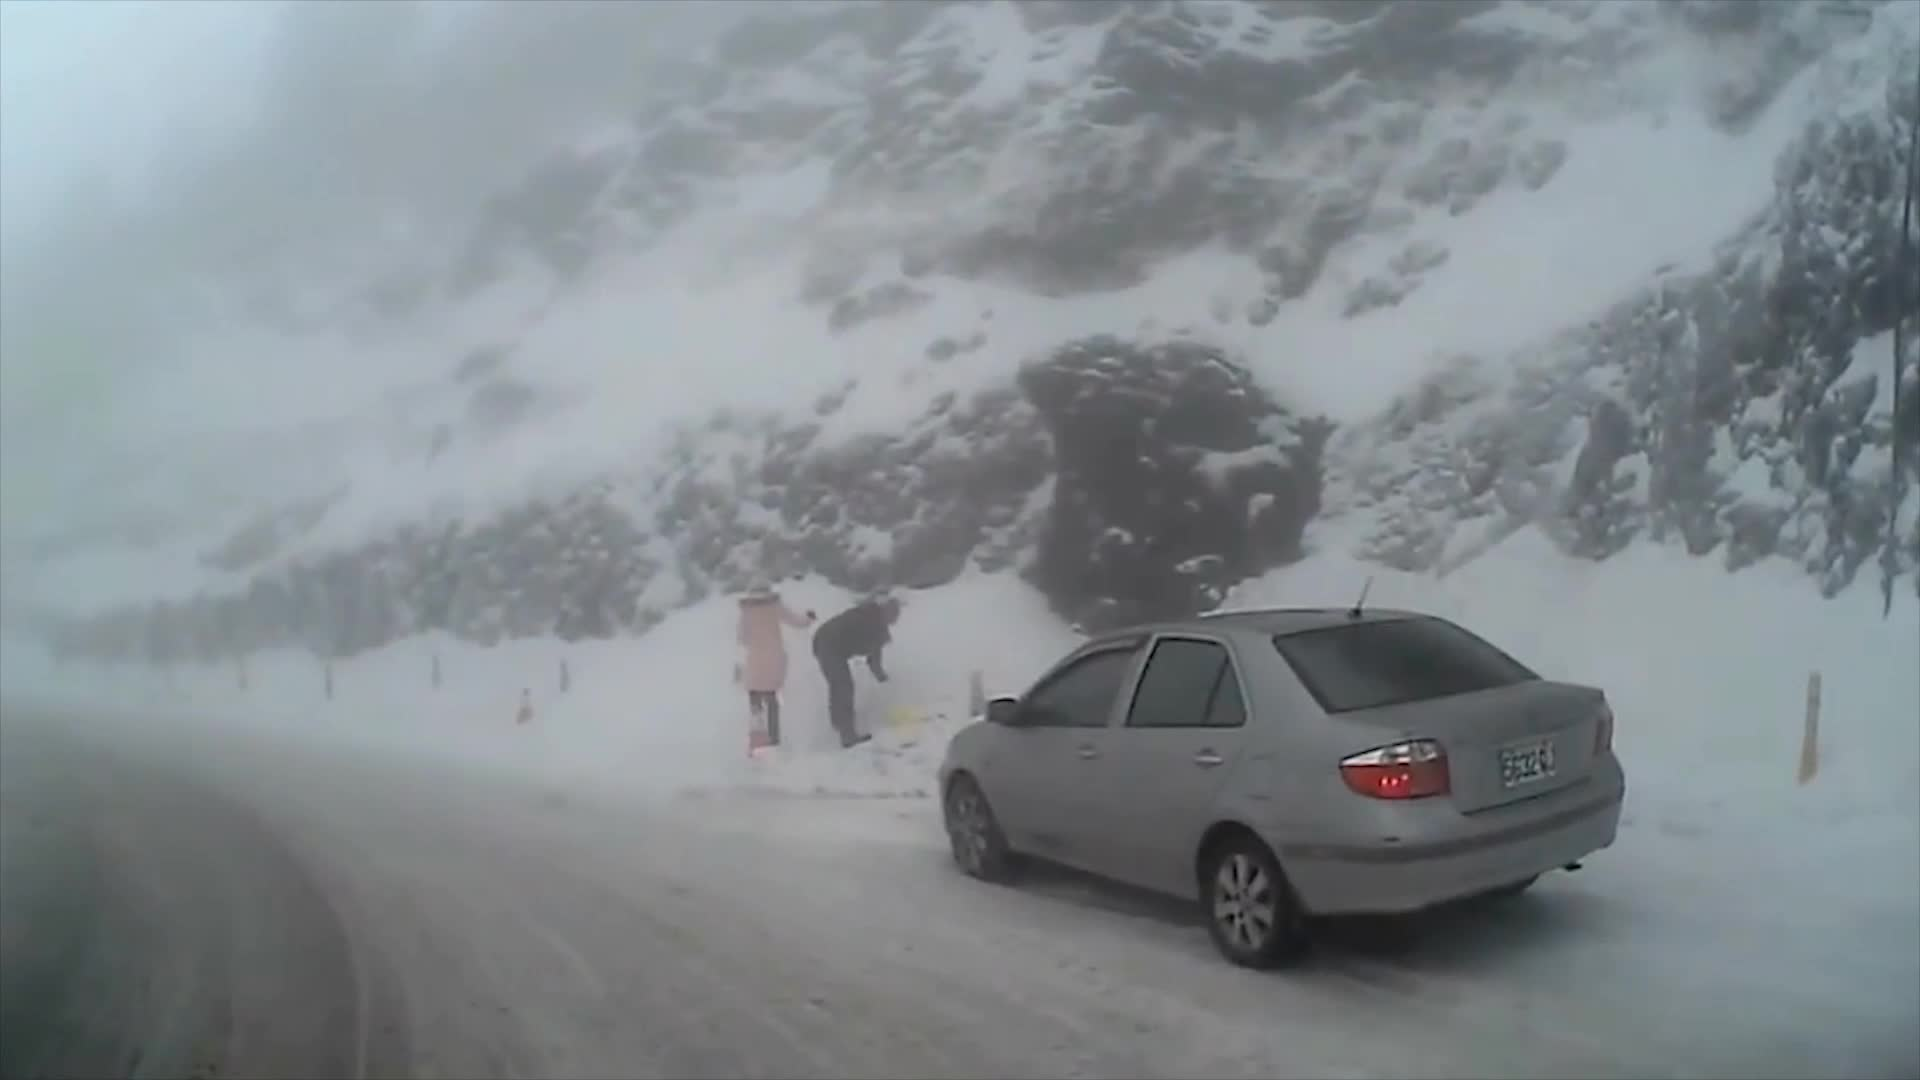pedestrian: (734, 574, 823, 747), (814, 598, 903, 746)
vehicle: (940, 605, 1625, 974)
